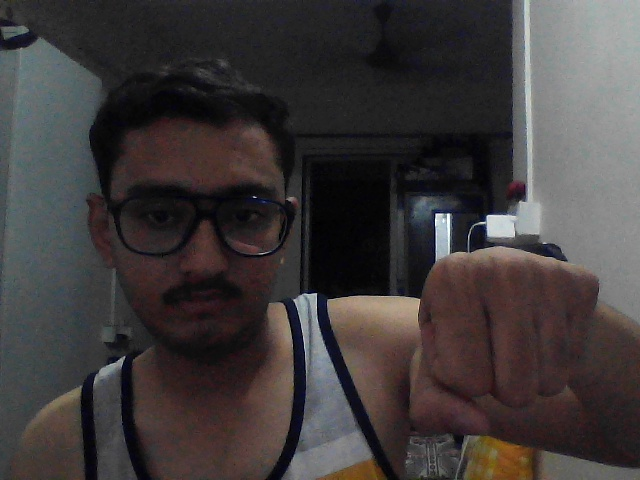Yes: (381, 214, 640, 452)
